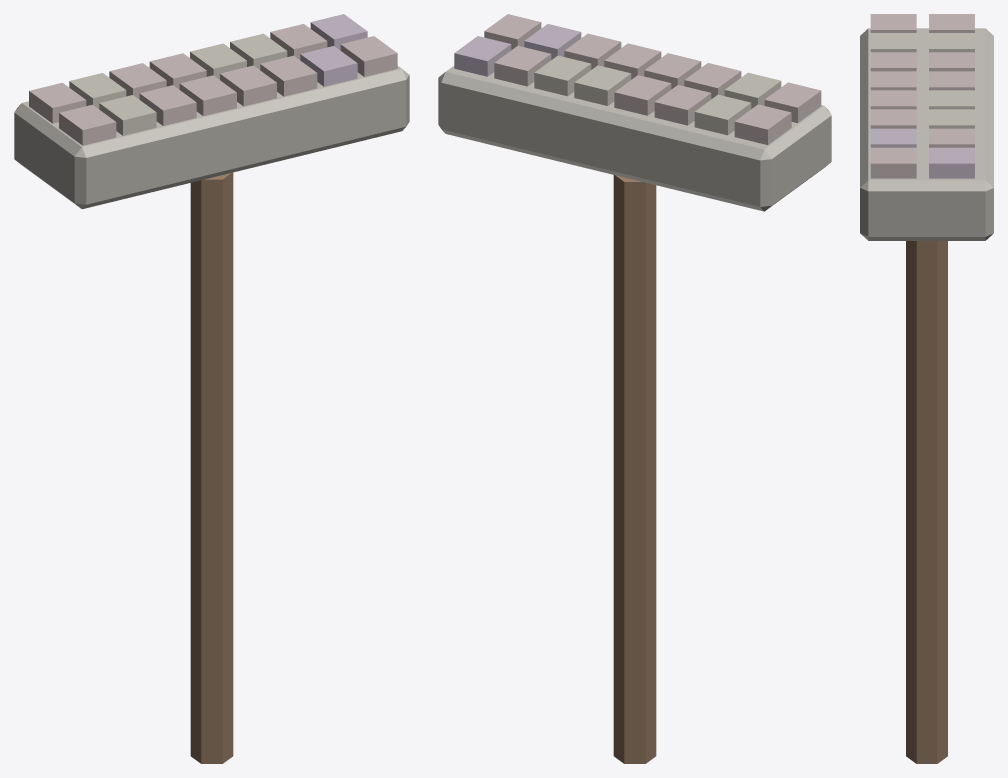
File: KeyboardHammer.fbx
3 views of the same model, side by side, from view 1: azimuth 30°, elevation 25°; view 2: azimuth 150°, elevation 25°; view 3: azimuth 270°, elevation 25° (orthographic). The views are drawn at different scales.
Parts seen in each view (by area): view 1: Prop_KeyboardHammer; view 2: Prop_KeyboardHammer; view 3: Prop_KeyboardHammer.
Part boxes in pixels (x1=…): Prop_KeyboardHammer: x1=14, y1=14, x2=409, y2=763; Prop_KeyboardHammer: x1=438, y1=14, x2=831, y2=763; Prop_KeyboardHammer: x1=860, y1=14, x2=993, y2=763.
Bounding box in the file's own units: 0.45 × 0.88 × 0.16.
